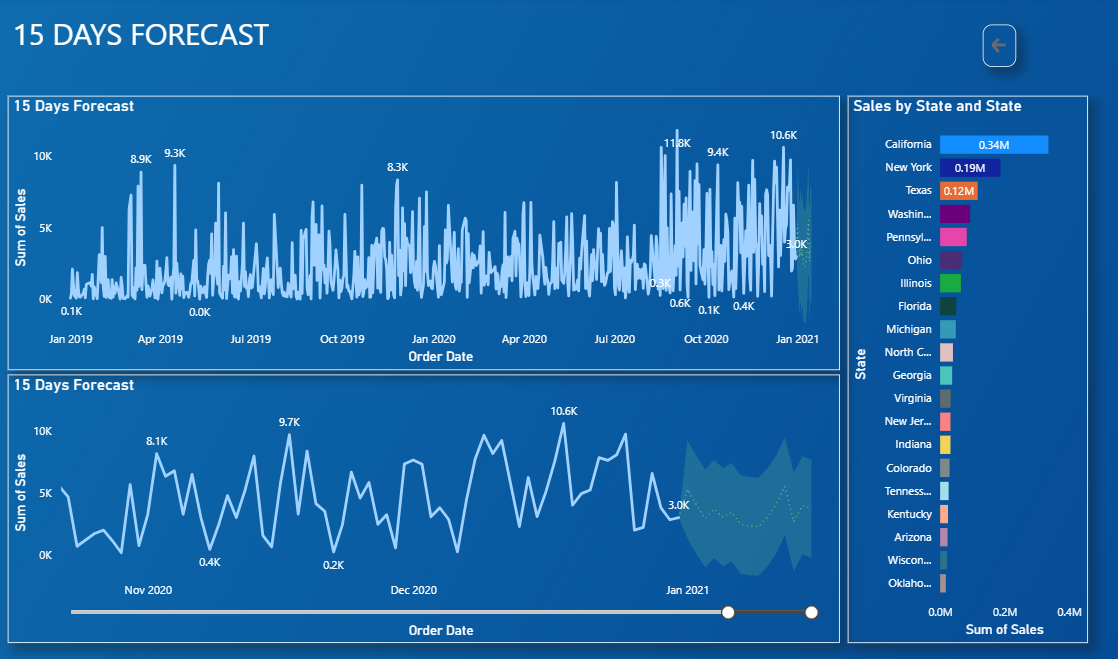

The page's visual inventory and layout, read from the dashboard file:
{"tool":"powerbi","page":{"name":"Forecast","canvas":[1280,720],"ordinal":1},"visuals":[{"type":"lineChart","title":"15 Days Forecast","fields":{"Y":["Sum(Sales_Dataset_proj2.Sales)"],"Category":["Sales_Dataset_proj2.Order Date"]},"box":[10,106.2,895,295],"z":0},{"type":"textbox","box":[9.4,12.1,983.1,79.3],"z":1000},{"type":"lineChart","title":"15 Days Forecast","fields":{"Y":["Sum(Sales_Dataset_proj2.Sales)"],"Category":["Sales_Dataset_proj2.Order Date"]},"box":[10,406.2,895,288.8],"z":2000},{"type":"barChart","title":"Sales by State and State","fields":{"Y":["Sum(Sales_Dataset_proj2.Sales)"],"Category":["Sales_Dataset_proj2.State"],"Series":["Sales_Dataset_proj2.State"]},"box":[913.8,106.2,258.8,588.8],"z":3000},{"type":"actionButton","box":[1058.4,29.6,36.3,45.7],"z":4000}]}

Visuals, with their boxes on the page's 1280x720 design canvas (x1, y1, x2, y2). These are canvas units, not pixel positions in the 1118x659 screenshot, which may show the page scaled, cropped or inside an application window:
"15 Days Forecast" lineChart: [left=10, top=106, right=905, bottom=401]
textbox: [left=9, top=12, right=992, bottom=91]
"15 Days Forecast" lineChart: [left=10, top=406, right=905, bottom=695]
"Sales by State and State" barChart: [left=914, top=106, right=1173, bottom=695]
actionButton: [left=1058, top=30, right=1095, bottom=75]
